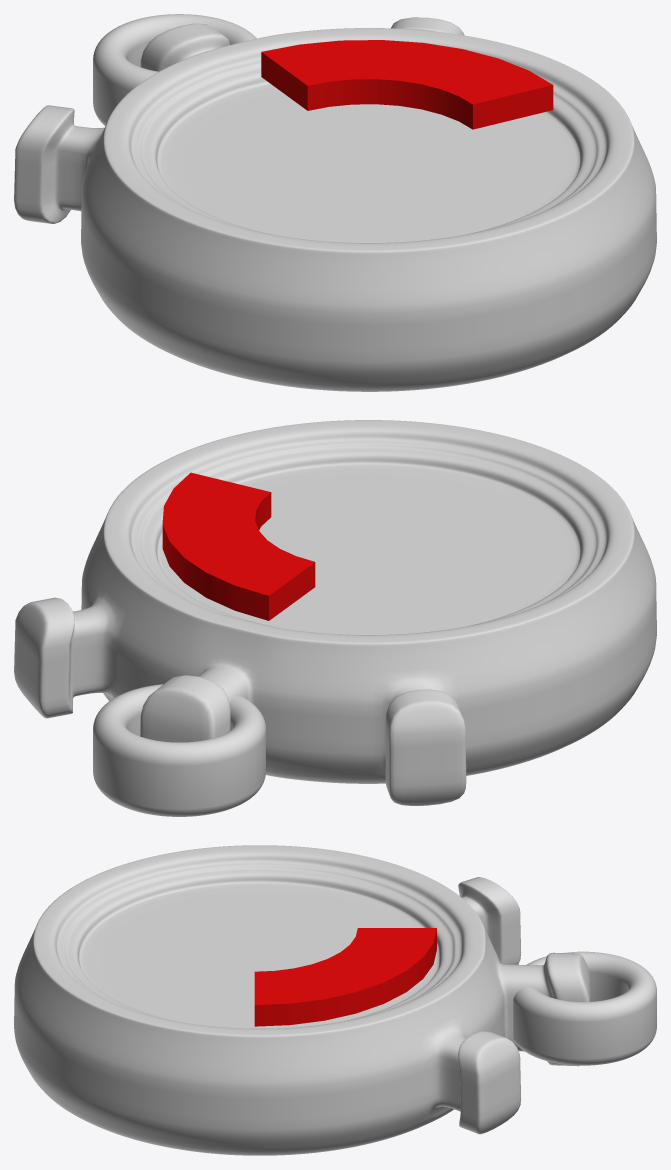
3 views of the same model, one above another, from view 1: azimuth 30°, elevation 25°; view 2: azimuth 150°, elevation 25°; view 3: azimuth 270°, elevation 25° (orthographic). The views are drawn at different scales.
Visible parts, largest first — view 1: Torus.003_Torus.004, Circle.001_Circle.000; view 2: Torus.003_Torus.004, Circle.001_Circle.000; view 3: Torus.003_Torus.004, Circle.001_Circle.000.
Part boxes in pixels (x1,y1,x2,y2): Torus.003_Torus.004: (14, 14, 656, 391); Circle.001_Circle.000: (261, 40, 553, 129); Torus.003_Torus.004: (14, 420, 656, 816); Circle.001_Circle.000: (162, 472, 315, 620); Torus.003_Torus.004: (14, 845, 656, 1155); Circle.001_Circle.000: (254, 928, 436, 1026).
Bounding box in the file's own units: 0.3104 × 0.0958 × 0.406.
